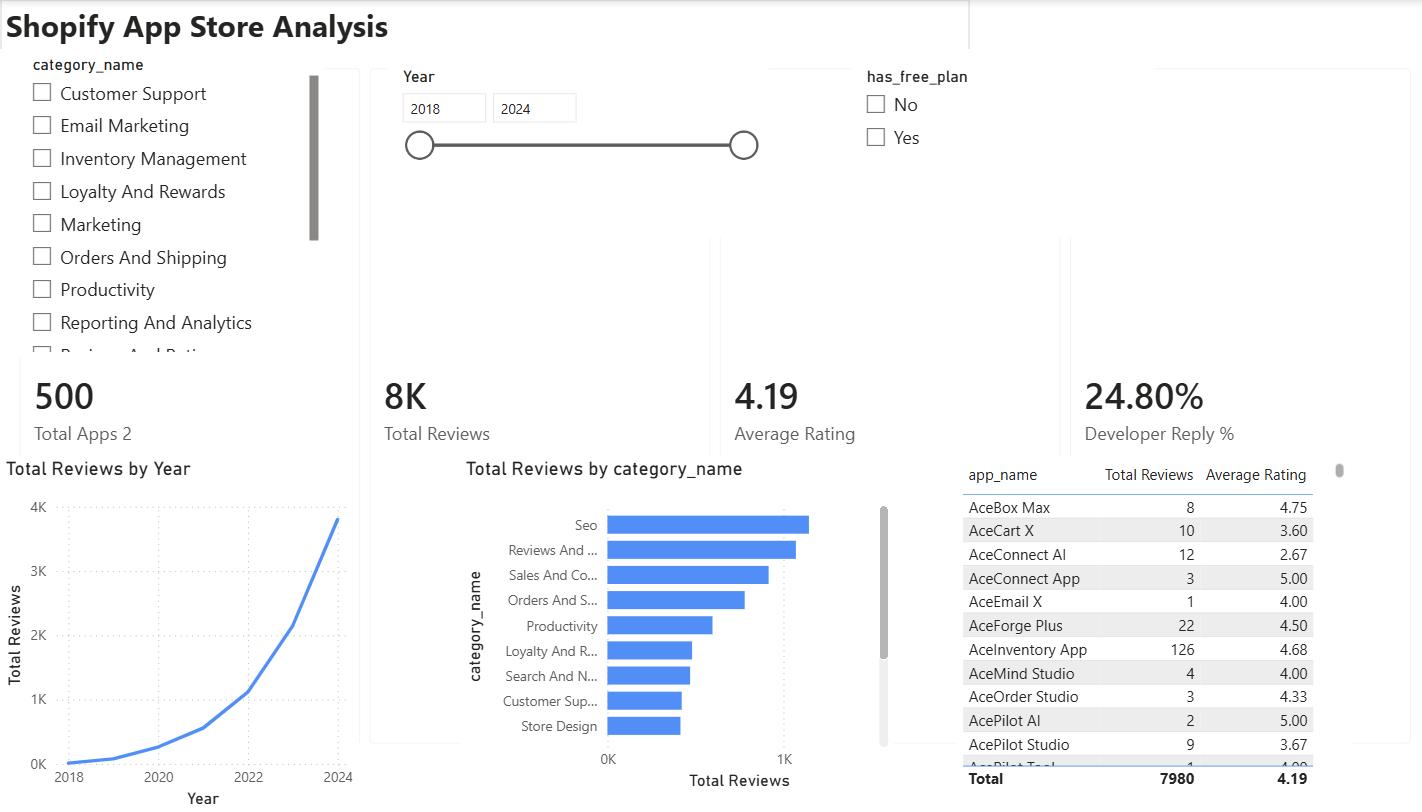

The page's visual inventory and layout, read from the dashboard file:
{"tool":"powerbi","page":{"name":"Overview","canvas":[1280,720],"ordinal":0},"visuals":[{"type":"textbox","box":[10.6,0,858.6,578.9],"z":0},{"type":"cardVisual","fields":{"Data":["apps.Total Apps 2","reviews.Total Reviews","reviews.Average Rating","reviews.Developer Reply %","apps.Total Apps 2"]},"box":[10.6,44.3,1269.4,632],"z":1000},{"type":"slicer","fields":{"Values":["apps.category_name"]},"box":[26.6,44.3,270.9,272.6],"z":2000},{"type":"slicer","fields":{"Values":["dim_date.Year"]},"box":[354.1,54.9,336.4,155.8],"z":3000},{"type":"slicer","fields":{"Values":["apps.has_free_plan"]},"box":[764.8,54.9,267.3,155.8],"z":4000},{"type":"lineChart","fields":{"Category":["dim_date.Date.Variation.Date Hierarchy.Year","dim_date.Date.Variation.Date Hierarchy.Quarter","dim_date.Date.Variation.Date Hierarchy.Month","dim_date.Date.Variation.Date Hierarchy.Day"],"Y":["reviews.Total Reviews"]},"box":[10.6,405.4,316.9,315.1],"z":5000},{"type":"clusteredBarChart","fields":{"Category":["apps.category_name"],"Y":["reviews.Total Reviews"]},"box":[417.8,405.4,384.2,299.2],"z":6000},{"type":"tableEx","fields":{"Values":["apps.app_name","reviews.Total Reviews","reviews.Average Rating"]},"box":[856.9,405.4,348.8,299.2],"z":7000}]}

Visuals, with their boxes in screenshot pixels (x1, y1, x2, y2), scaled from the page's 1280x720 canvas onto the 1422x812 screenshot:
textbox: pyautogui.locateOnScreen(12, 0, 966, 653)
cardVisual - apps.Total Apps 2 x reviews.Total Reviews: pyautogui.locateOnScreen(12, 50, 1421, 763)
slicer - apps.category_name: pyautogui.locateOnScreen(30, 50, 331, 357)
slicer - dim_date.Year: pyautogui.locateOnScreen(393, 62, 767, 238)
slicer - apps.has_free_plan: pyautogui.locateOnScreen(850, 62, 1147, 238)
lineChart - dim_date.Date.Variation.Date Hierarchy.Year x dim_date.Date.Variation.Date Hierarchy.Quarter: pyautogui.locateOnScreen(12, 457, 364, 811)
clusteredBarChart - apps.category_name x reviews.Total Reviews: pyautogui.locateOnScreen(464, 457, 891, 795)
tableEx - apps.app_name x reviews.Total Reviews: pyautogui.locateOnScreen(952, 457, 1339, 795)
